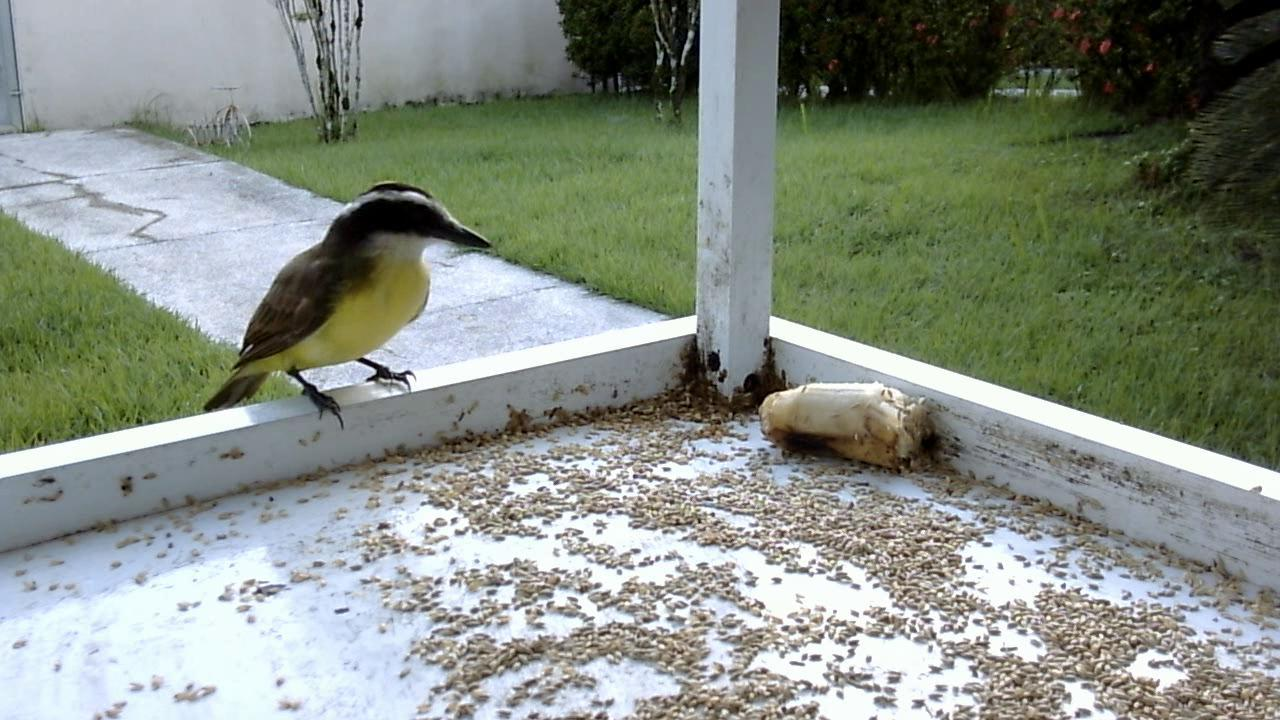bem_te_vi: (189, 167, 501, 447)
